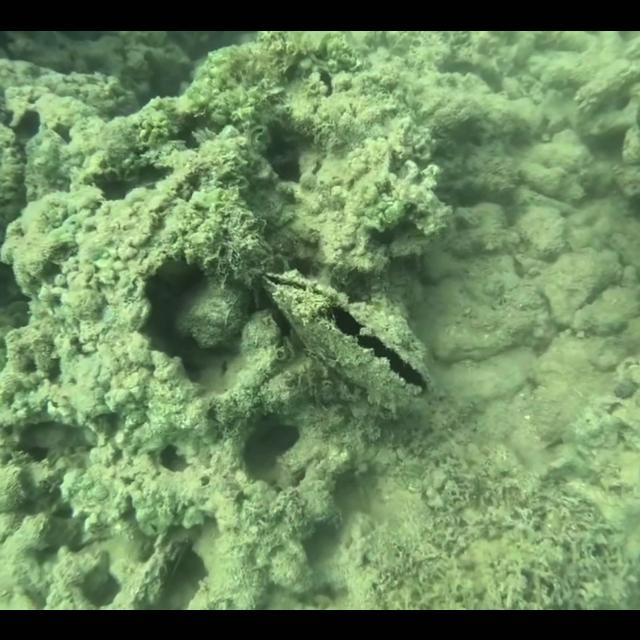Oyster-Open: (261, 268, 433, 410)
